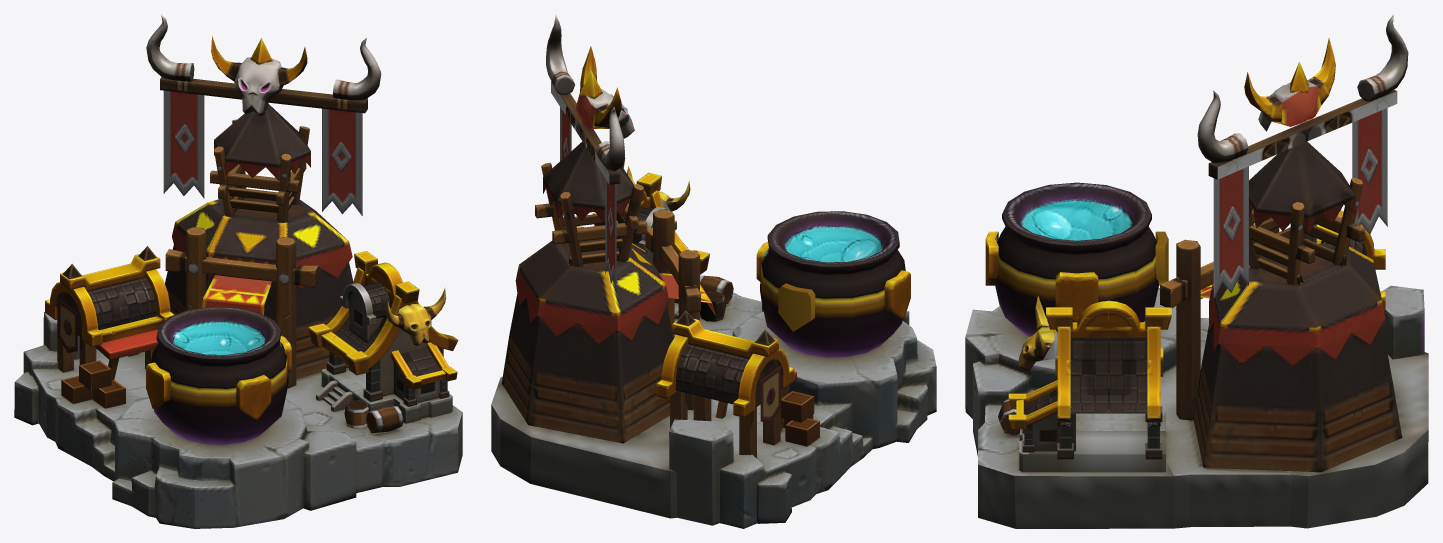
File: C_Laboratory_LV7.fbx
3 views of the same model, side by side, from view 1: azimuth 30°, elevation 25°; view 2: azimuth 150°, elevation 25°; view 3: azimuth 270°, elevation 25° (orthographic). The views are drawn at different scales.
Parts seen in each view (by area): view 1: Laboratory_LVL07_0_mesh; view 2: Laboratory_LVL07_0_mesh; view 3: Laboratory_LVL07_0_mesh.
Boxes of the visible parts, left/top/right/bottom form: Laboratory_LVL07_0_mesh: left=14, top=14, right=462, bottom=528; Laboratory_LVL07_0_mesh: left=491, top=14, right=936, bottom=528; Laboratory_LVL07_0_mesh: left=965, top=14, right=1428, bottom=528.
Size of the model in its own units: 118 by 128 by 124.
